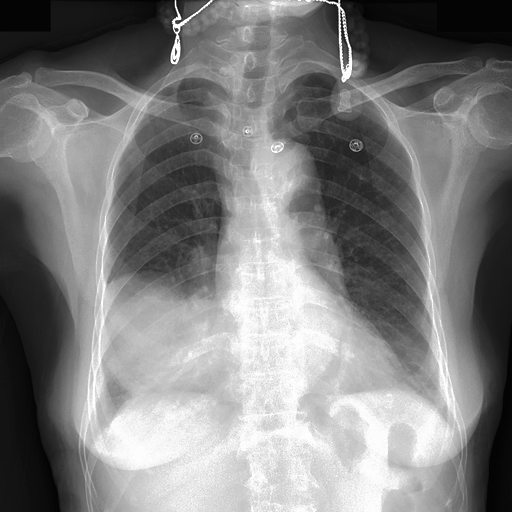Aortic enlargement: (99, 272, 221, 397)
Consolidation: (267, 138, 323, 209)
Pleural thickening: (98, 270, 208, 393)
Pulmonary fibrosis: (98, 270, 208, 393)
